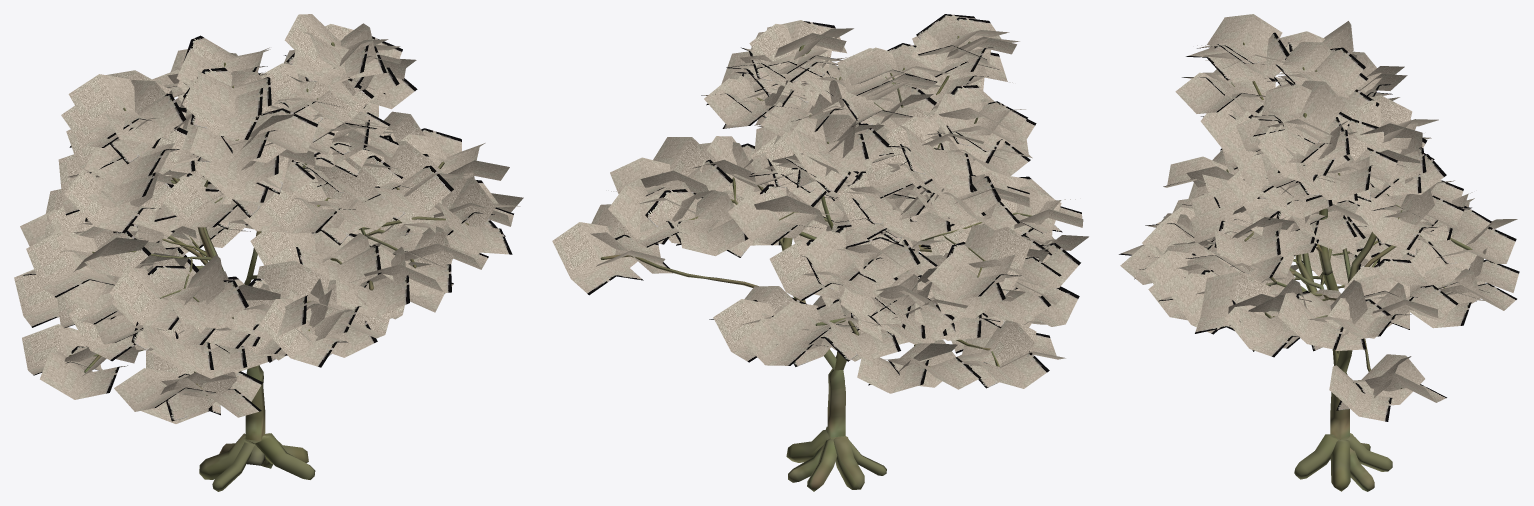
The model's file is Tree6.obj.
3 renders of one model, left to right at view 1: azimuth 30°, elevation 25°; view 2: azimuth 150°, elevation 25°; view 3: azimuth 270°, elevation 25°, orthographic. The views are drawn at different scales.
Parts seen in each view (by area): view 1: Sonnerat.694, Sonnerat.740, Sonnerat.696, Sonnerat.656, Sonnerat.546, Sonnerat.634, Sonnerat.738, Sonnerat.706, Sonnerat.532, Sonnerat.698, Sonnerat.810, Sonnerat.760 (+86 smaller); view 2: Sonnerat.772, Sonnerat.695, Sonnerat.596, Sonnerat.558, Sonnerat.824, Sonnerat.460, Sonnerat.572, Sonnerat.545, Sonnerat.576, Sonnerat.692, Sonnerat.540, Sonnerat.560 (+75 smaller); view 3: Sonnerat.782, Sonnerat.768, Sonnerat.594, Sonnerat.790, Sonnerat.840, Sonnerat.770, Sonnerat.812, Sonnerat.758, Sonnerat.838, Sonnerat.762, Sonnerat.534, Sonnerat.773 (+79 smaller).
Part boxes in pixels (x1,y1,x2,y2): Sonnerat.694: [26, 231, 116, 297]; Sonnerat.740: [68, 74, 151, 138]; Sonnerat.696: [109, 268, 178, 329]; Sonnerat.656: [160, 176, 241, 227]; Sonnerat.546: [40, 352, 127, 399]; Sonnerat.634: [259, 299, 347, 367]; Sonnerat.738: [99, 93, 186, 143]; Sonnerat.706: [64, 169, 160, 233]; Sonnerat.532: [335, 275, 409, 317]; Sonnerat.698: [158, 280, 248, 328]; Sonnerat.810: [362, 165, 453, 213]; Sonnerat.760: [190, 126, 276, 168]; Sonnerat.772: [552, 222, 643, 295]; Sonnerat.695: [965, 224, 1031, 295]; Sonnerat.596: [728, 192, 820, 245]; Sonnerat.558: [713, 299, 777, 362]; Sonnerat.824: [704, 78, 797, 125]; Sonnerat.460: [766, 302, 858, 345]; Sonnerat.572: [769, 241, 842, 300]; Sonnerat.545: [956, 320, 1035, 388]; Sonnerat.576: [801, 231, 883, 280]; Sonnerat.692: [927, 257, 1021, 300]; Sonnerat.540: [857, 356, 930, 393]; Sonnerat.560: [740, 318, 828, 365]; Sonnerat.782: [1195, 271, 1270, 333]; Sonnerat.768: [1197, 14, 1282, 63]; Sonnerat.594: [1355, 194, 1437, 249]; Sonnerat.790: [1278, 292, 1343, 349]; Sonnerat.840: [1258, 80, 1345, 138]; Sonnerat.770: [1329, 365, 1392, 421]; Sonnerat.812: [1213, 228, 1280, 265]; Sonnerat.758: [1275, 47, 1365, 91]; Sonnerat.838: [1253, 84, 1319, 143]; Sonnerat.762: [1175, 72, 1265, 113]; Sonnerat.534: [1145, 250, 1194, 313]; Sonnerat.773: [1353, 354, 1424, 405].
Bounding box in the file's own units: 11.79 × 10.71 × 9.32.
Materials: 1 (1 with a texture image).
